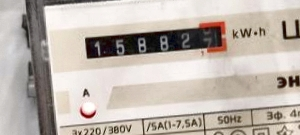1: (91, 38, 103, 57)
2: (179, 30, 191, 49)
5: (113, 37, 125, 55)
7: (202, 36, 213, 48)
8: (134, 35, 147, 53), (157, 33, 169, 51)
screen: (76, 17, 233, 67)
